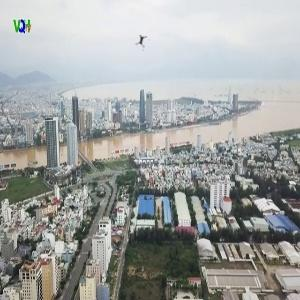drone: (130, 29, 158, 57)
